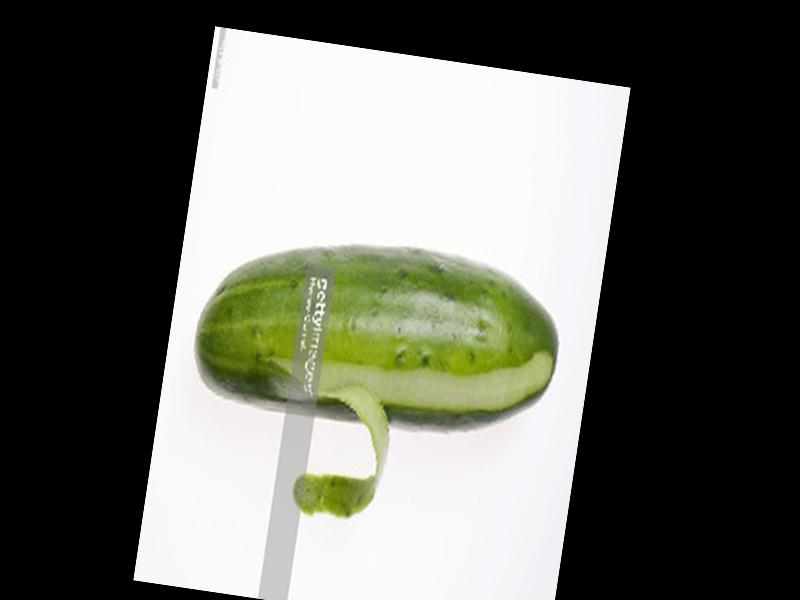Cucumber: (185, 220, 571, 454)
